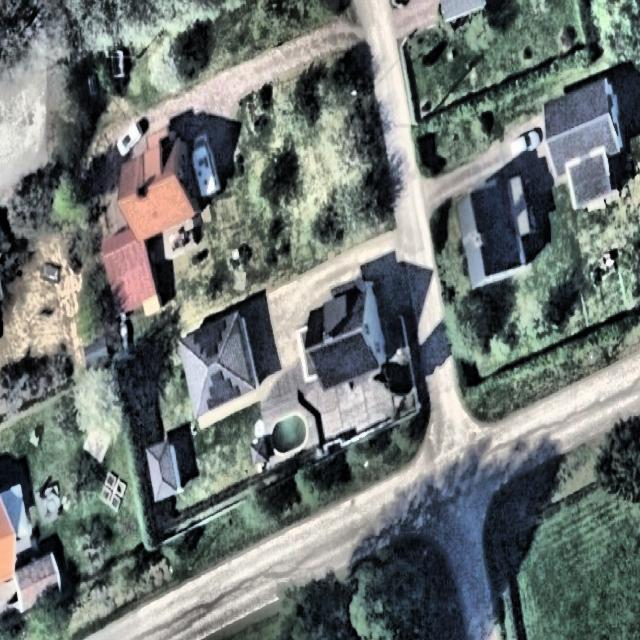roof_pv: (343, 331, 381, 386), (202, 366, 244, 409), (313, 338, 343, 393), (188, 319, 228, 358)
